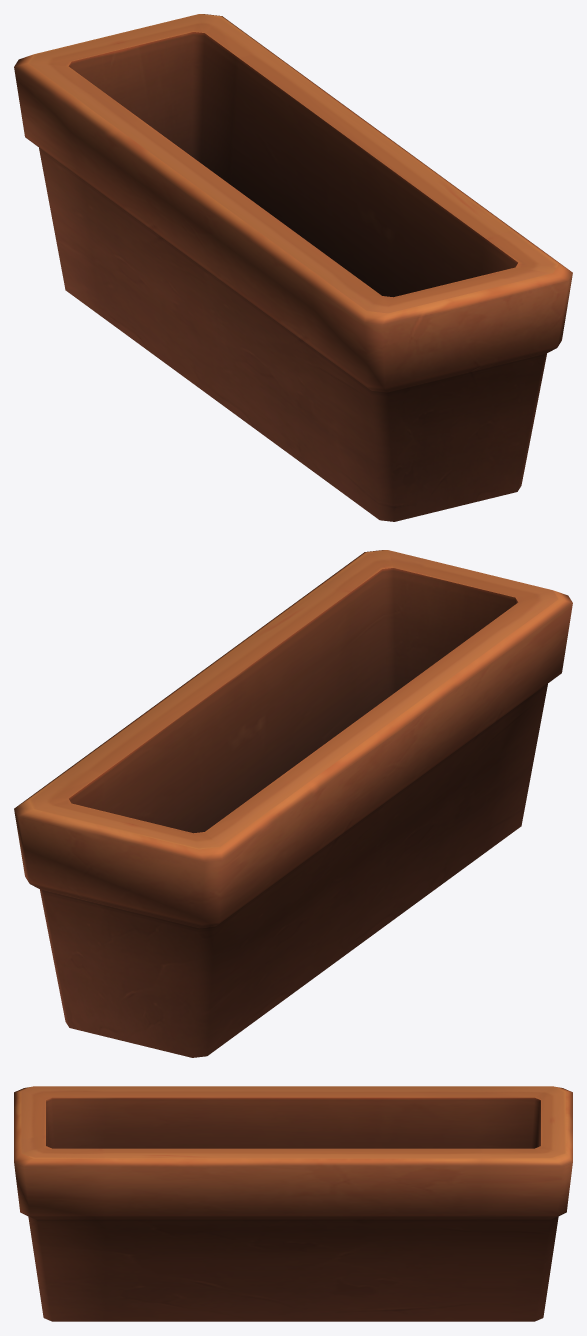
The model's file is SE_Pot_02b.fbx.
The picture shows the model from 3 angles, top to bottom: view 1: azimuth 30°, elevation 25°; view 2: azimuth 150°, elevation 25°; view 3: azimuth 270°, elevation 25°; orthographic projection. The views are drawn at different scales.
Visible parts, largest first — view 1: SE_Pot_02b; view 2: SE_Pot_02b; view 3: SE_Pot_02b.
Part boxes in pixels (x1,y1,x2,y2): SE_Pot_02b: [14, 14, 572, 521]; SE_Pot_02b: [14, 550, 572, 1057]; SE_Pot_02b: [14, 1086, 572, 1321].
Size of the model in its own units: 1.48 by 1.54 by 4.48.
